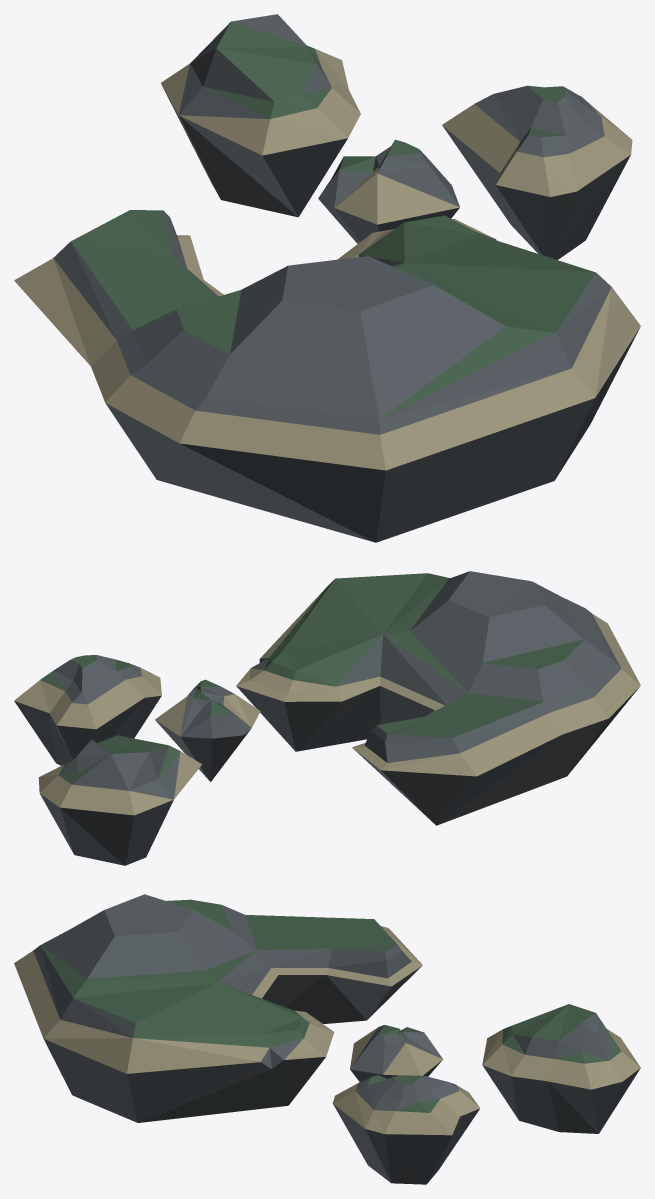
Rendered from island_2.fbx.
3 renders of one model, top to bottom at view 1: azimuth 30°, elevation 25°; view 2: azimuth 150°, elevation 25°; view 3: azimuth 270°, elevation 25°, orthographic. The views are drawn at different scales.
Visible parts, largest first — view 1: polySurface5; view 2: polySurface5; view 3: polySurface5.
Part boxes in pixels (x1,y1,x2,y2): polySurface5: (14, 14, 640, 542); polySurface5: (14, 571, 640, 865); polySurface5: (14, 894, 640, 1184).
Size of the model in its own units: 16.84 by 4.68 by 20.45.
